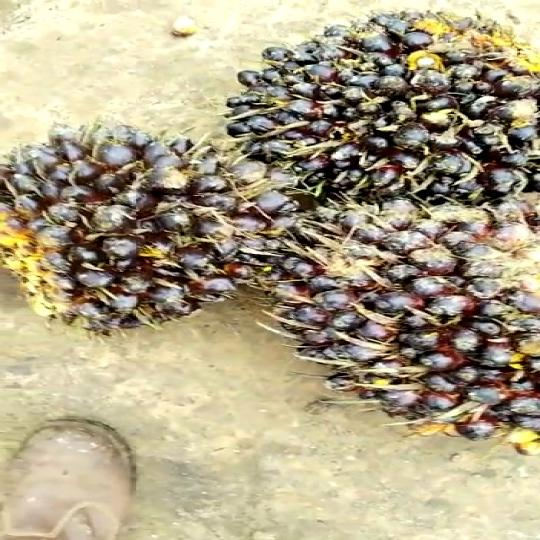mentah: (256, 197, 540, 460), (216, 2, 540, 219), (0, 107, 264, 340)
